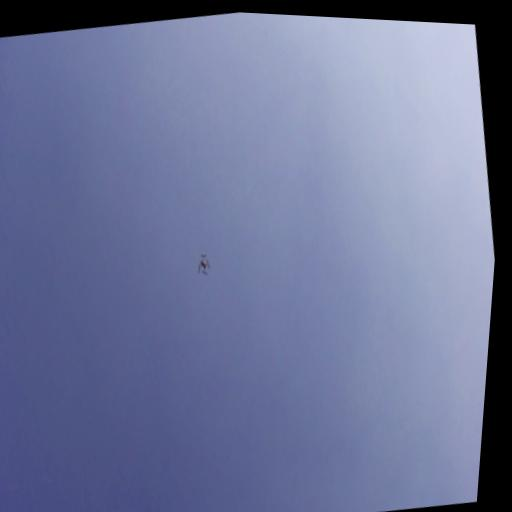drones: (193, 252, 212, 277)
